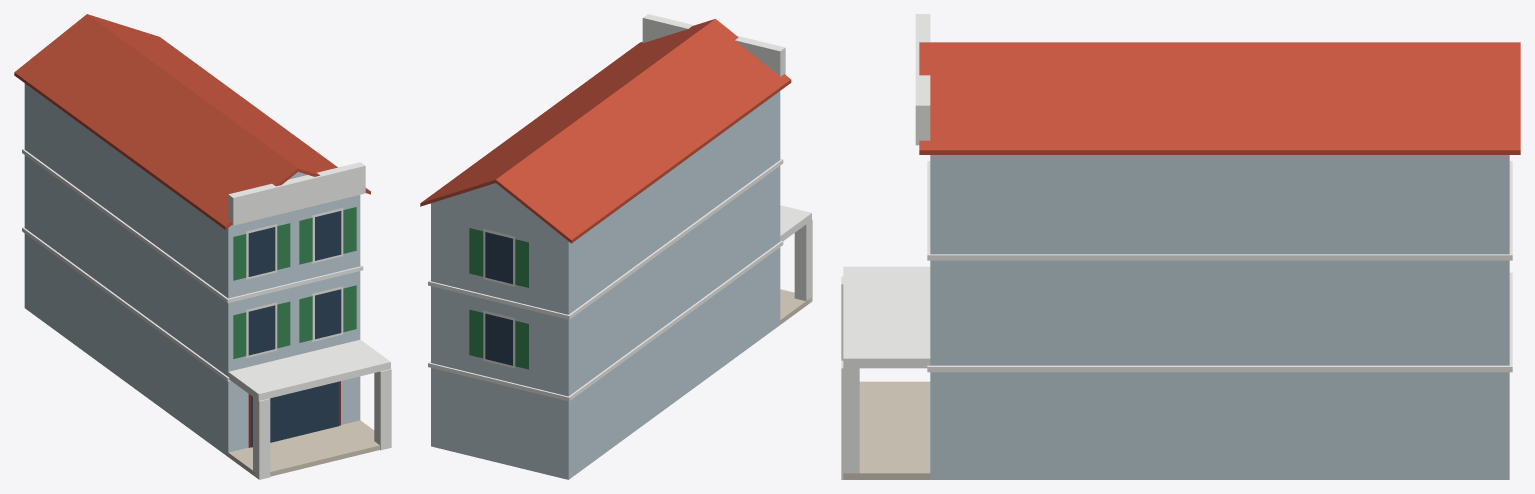
Rendered from shophouse.glb.
The picture shows the model from 3 angles, left to right: view 1: azimuth 30°, elevation 25°; view 2: azimuth 150°, elevation 25°; view 3: azimuth 270°, elevation 25°; orthographic projection. The views are drawn at different scales.
Parts seen in each view (by area): view 1: shophouse; view 2: shophouse; view 3: shophouse.
Part boxes in pixels (x1=…): shophouse: x1=14, y1=14, x2=391, y2=479; shophouse: x1=420, y1=14, x2=812, y2=479; shophouse: x1=841, y1=14, x2=1520, y2=479.
Bounding box in the file's own units: 6.6 × 11.94 × 18.75.
Materials: 1 (1 with a texture image).
